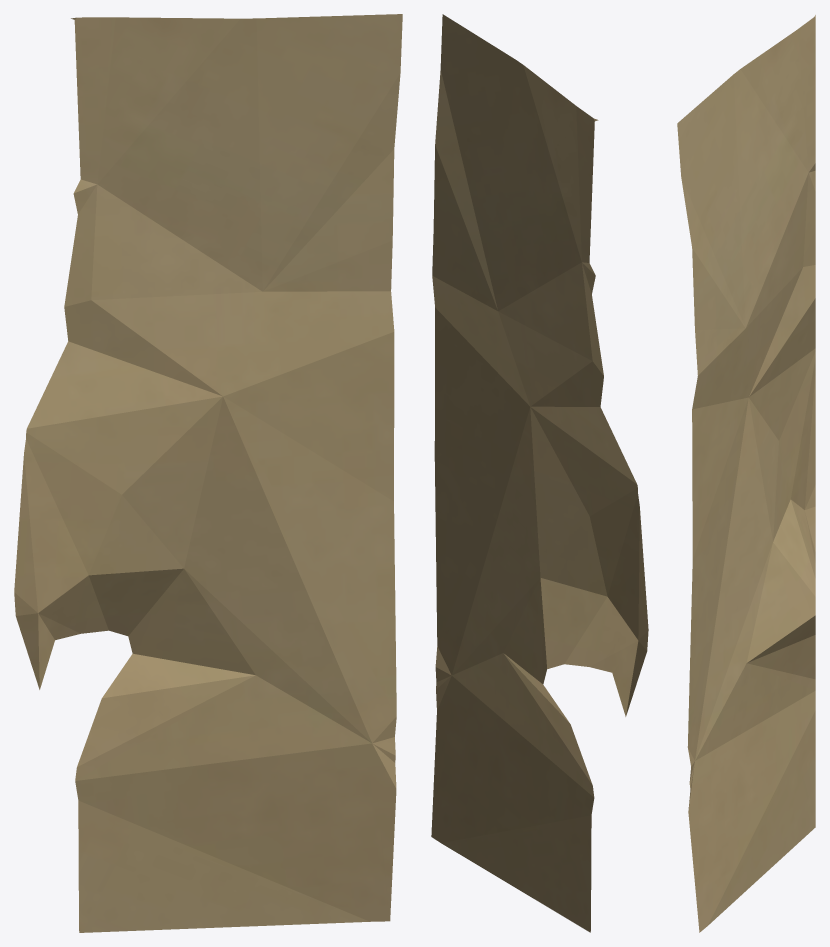
The picture shows the model from 3 angles, left to right: view 1: azimuth 30°, elevation 25°; view 2: azimuth 150°, elevation 25°; view 3: azimuth 270°, elevation 25°; orthographic projection. The views are drawn at different scales.
Bounding box in the file's own units: 0.2965 × 0.8374 × 0.1299.
1 material, 1 textured.
